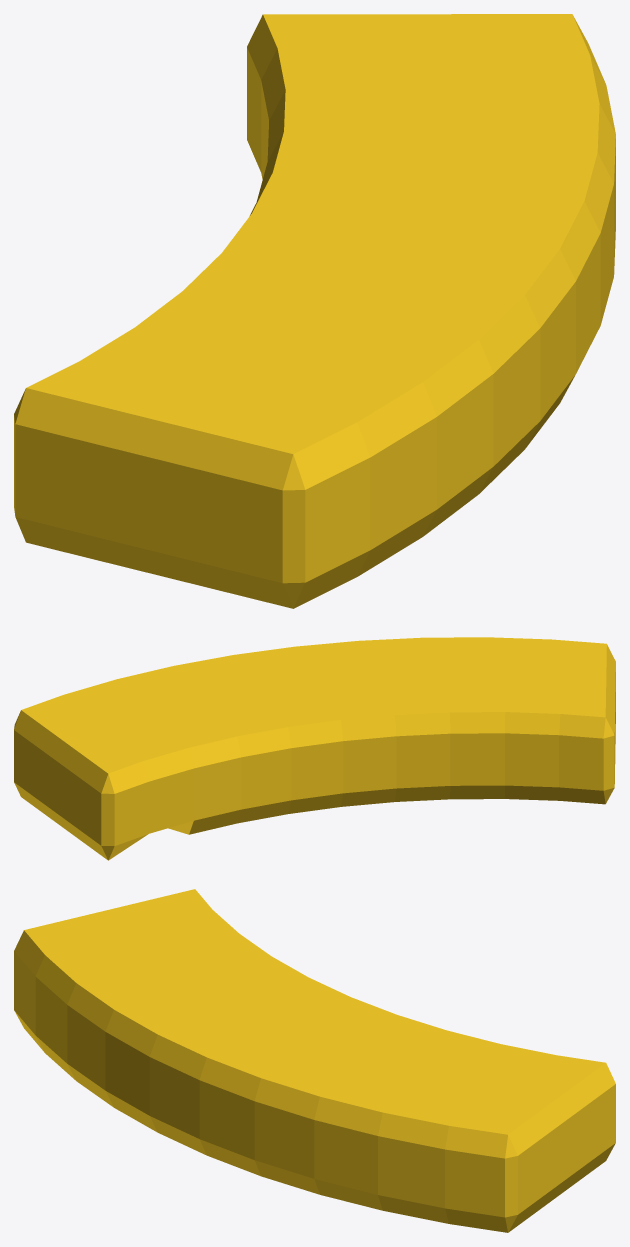
Rendered from SofaChair.fbx.
3 views of the same model, one above another, from view 1: azimuth 30°, elevation 25°; view 2: azimuth 150°, elevation 25°; view 3: azimuth 270°, elevation 25° (orthographic). The views are drawn at different scales.
Parts seen in each view (by area): view 1: Chairs; view 2: Chairs; view 3: Chairs.
Boxes of the visible parts, x1,y1,x2,y2 form: Chairs: [14, 14, 615, 608]; Chairs: [14, 637, 615, 860]; Chairs: [14, 889, 615, 1232].
Bounding box in the file's own units: 374 × 67.5 × 375.
